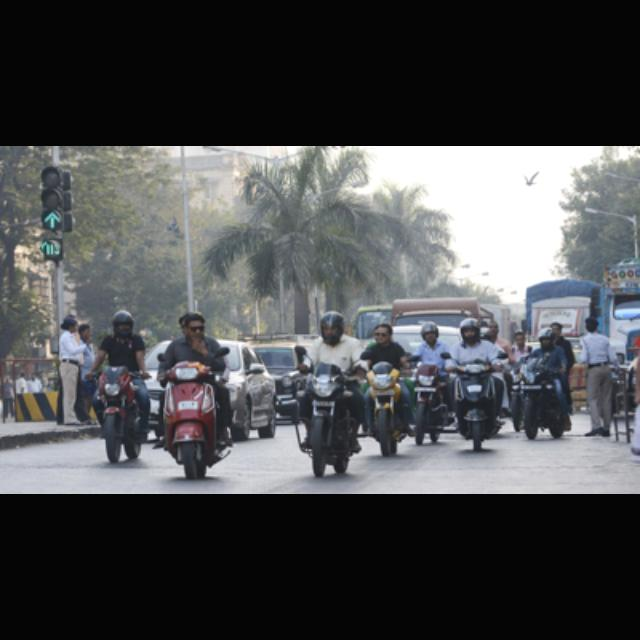With Helmet: (107, 308, 139, 342), (317, 311, 347, 345), (415, 316, 445, 348), (456, 318, 484, 346), (536, 327, 560, 351)
Without Helmet: (180, 309, 210, 347), (371, 324, 395, 346), (510, 327, 530, 348)
